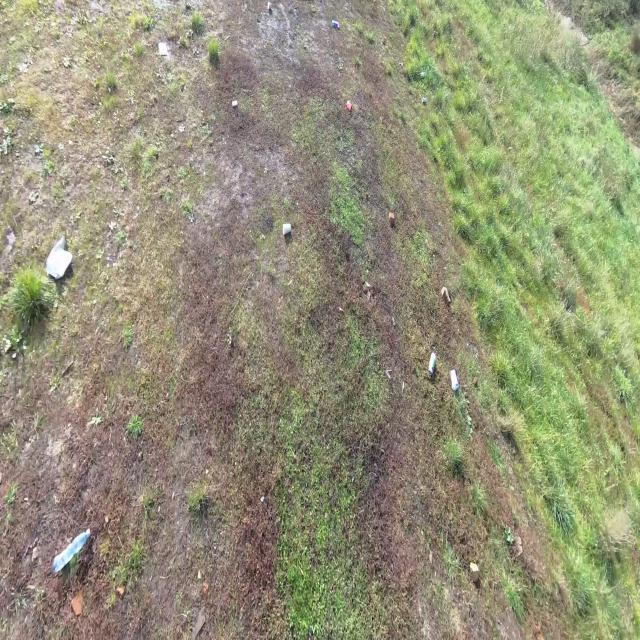rubbish: (53, 528, 91, 574), (45, 235, 74, 281), (468, 563, 480, 584), (449, 368, 459, 391), (440, 285, 452, 303), (428, 351, 436, 374), (282, 222, 291, 236), (345, 98, 353, 112), (159, 44, 168, 55), (331, 18, 340, 29), (388, 212, 395, 225), (231, 98, 238, 107), (419, 70, 425, 79), (267, 2, 272, 10), (422, 97, 427, 102)
